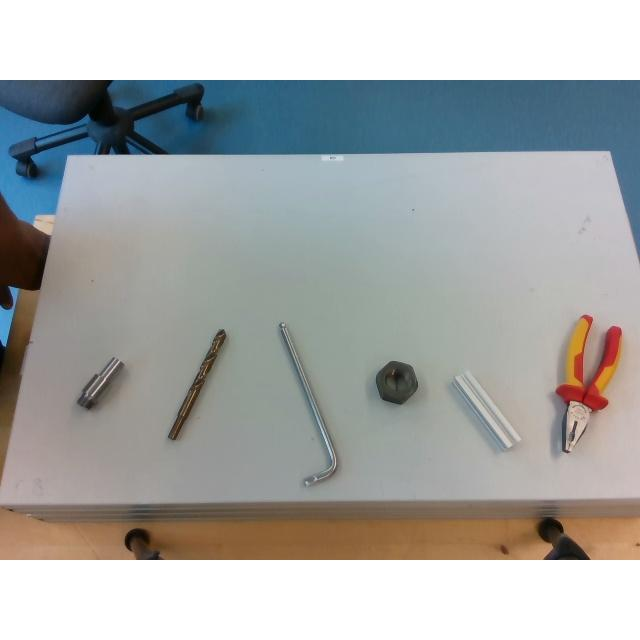AllenKey: (280, 322, 336, 486)
Axis2: (76, 356, 124, 408)
Drill: (167, 329, 226, 439)
F20_20_G: (453, 370, 521, 450)
M30: (376, 361, 416, 404)
